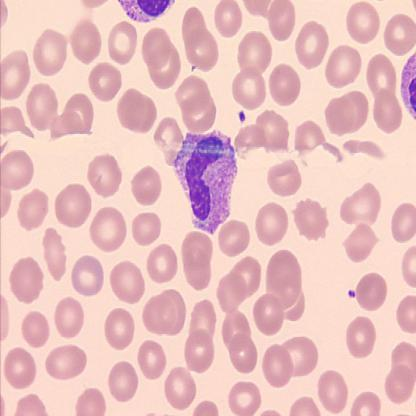Band Neutrophil: (170, 127, 239, 238)
